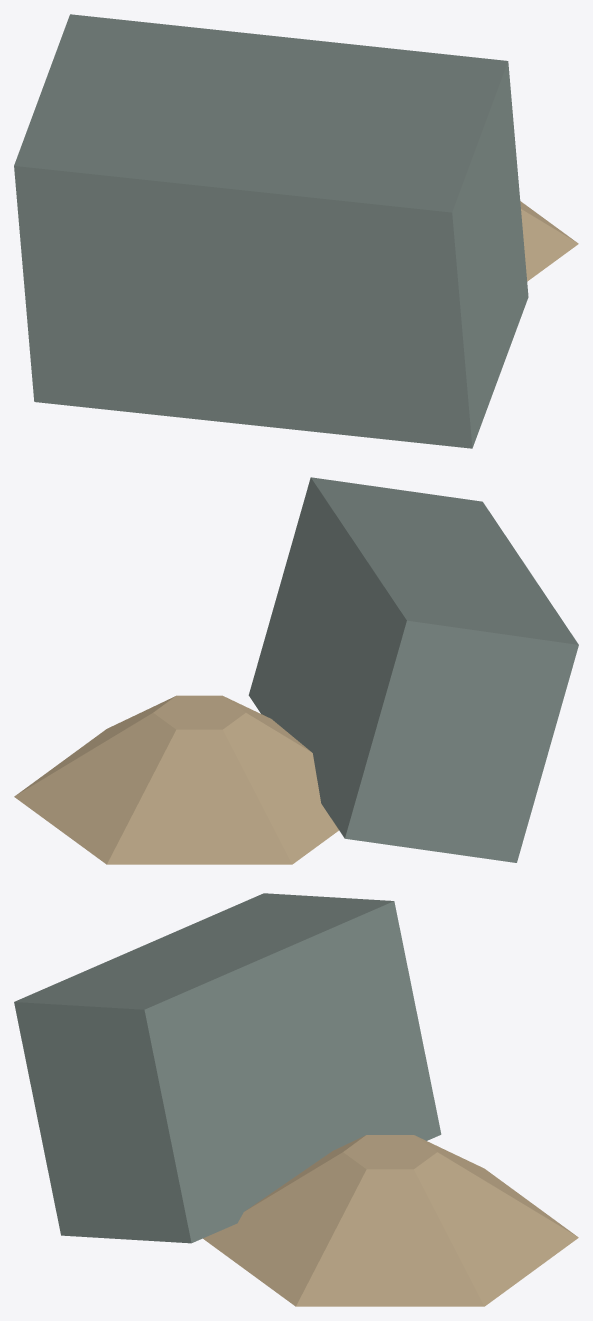
File: SM_ObraHerramientas_v1_8m_LOD1.fbx
The picture shows the model from 3 angles, top to bottom: view 1: azimuth 30°, elevation 25°; view 2: azimuth 150°, elevation 25°; view 3: azimuth 270°, elevation 25°; orthographic projection. The views are drawn at different scales.
Parts seen in each view (by area): view 1: SM_obra_curso_v12_LOD1; view 2: SM_obra_curso_v12_LOD1; view 3: SM_obra_curso_v12_LOD1.
Part boxes in pixels (x1=…): SM_obra_curso_v12_LOD1: x1=14, y1=14, x2=578, y2=448; SM_obra_curso_v12_LOD1: x1=14, y1=477, x2=578, y2=864; SM_obra_curso_v12_LOD1: x1=14, y1=893, x2=578, y2=1306.
Bounding box in the file's own units: 1.42 × 0.7601 × 1.5.
